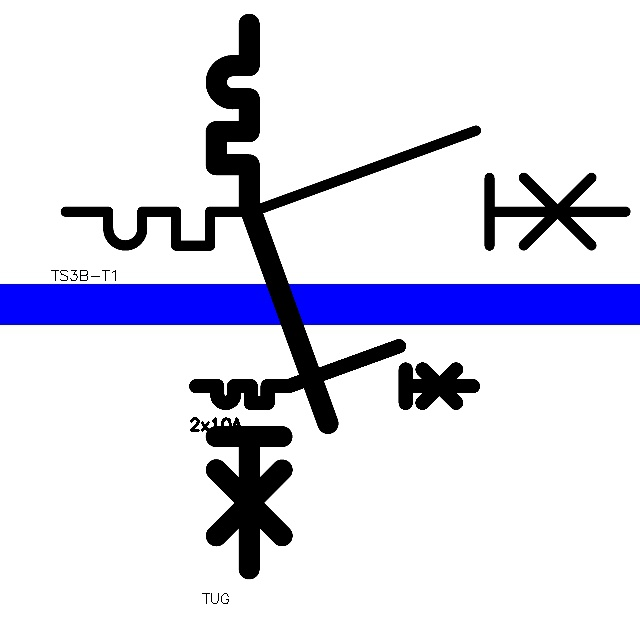interruptor_termomagnetico: (51, 116, 640, 260), (202, 10, 342, 583), (189, 339, 479, 410)
